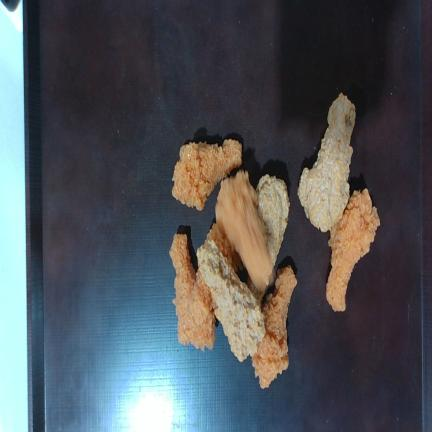chicken: (197, 241, 265, 361), (298, 93, 355, 232), (216, 171, 273, 293), (326, 188, 380, 311), (252, 266, 297, 388), (169, 233, 215, 350), (172, 139, 241, 210), (256, 174, 290, 266)
